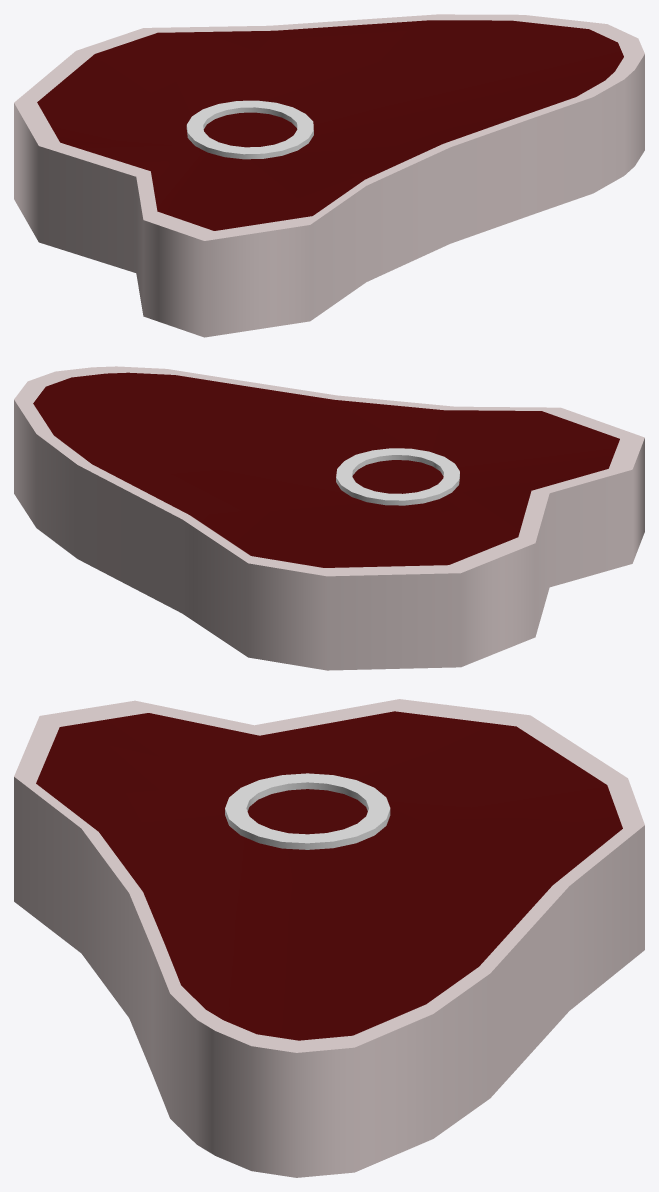
The model's file is Steak.fbx.
The picture shows the model from 3 angles, top to bottom: view 1: azimuth 30°, elevation 25°; view 2: azimuth 150°, elevation 25°; view 3: azimuth 270°, elevation 25°; orthographic projection. The views are drawn at different scales.
Parts seen in each view (by area): view 1: Steak; view 2: Steak; view 3: Steak.
Boxes of the visible parts, left/top/right/bottom form: Steak: left=14, top=14, right=644, bottom=337; Steak: left=14, top=366, right=644, bottom=670; Steak: left=14, top=699, right=644, bottom=1177.
Size of the model in its own units: 6.07 by 1.03 by 4.58.
